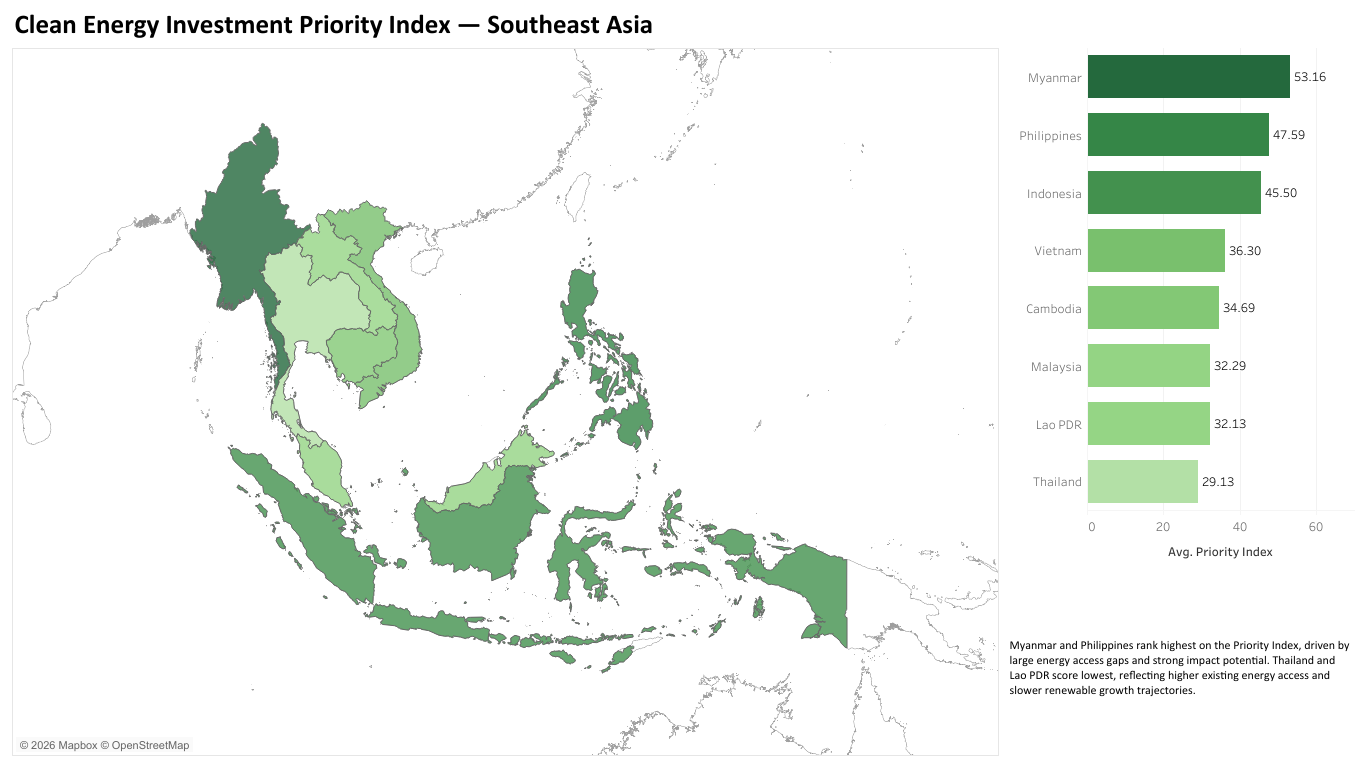

This screenshot's page, from the dashboard's own definition file:
{"tool":"tableau","page":{"name":"Priority Index Overview","canvas":[1566,868],"ordinal":3},"visuals":[{"type":"title","box":[8,8,1550,57]},{"type":"worksheet","title":"Priority Index Map","mark":"Automatic","box":[8,65,1142,795]},{"type":"worksheet","title":"Priority Index Bar Sheet","mark":"Automatic","rows":["country_name"],"cols":["priority_index"],"box":[1150,65,408,584.8]},{"type":"text","box":[1150,649.8,408,210.2]}]}

Visuals, with their boxes in screenshot pixels (x1, y1, x2, y2), scaled from the page's 1566x868 canvas onto the 1365x767 screenshot:
title: [x1=7, y1=7, x2=1358, y2=57]
"Priority Index Map" worksheet: [x1=7, y1=57, x2=1002, y2=760]
"Priority Index Bar Sheet" worksheet: [x1=1002, y1=57, x2=1358, y2=574]
text: [x1=1002, y1=574, x2=1358, y2=760]
